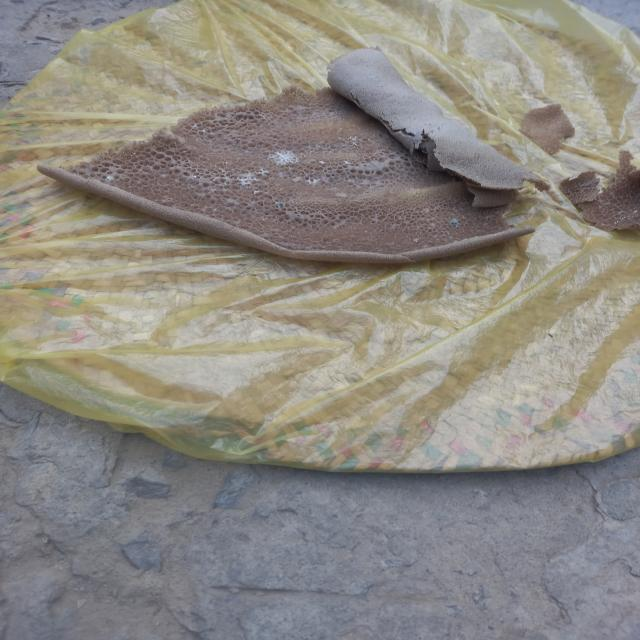injera_mold: (230, 170, 267, 193), (266, 149, 302, 166), (188, 172, 220, 184), (344, 134, 364, 148), (446, 217, 462, 230), (100, 173, 121, 182), (305, 176, 322, 186)
